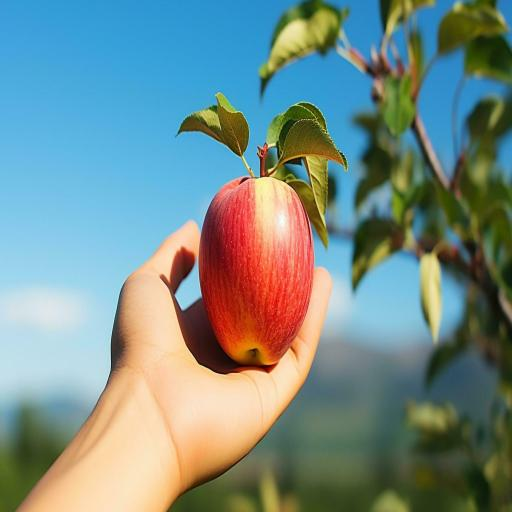apple: (199, 178, 314, 365)
